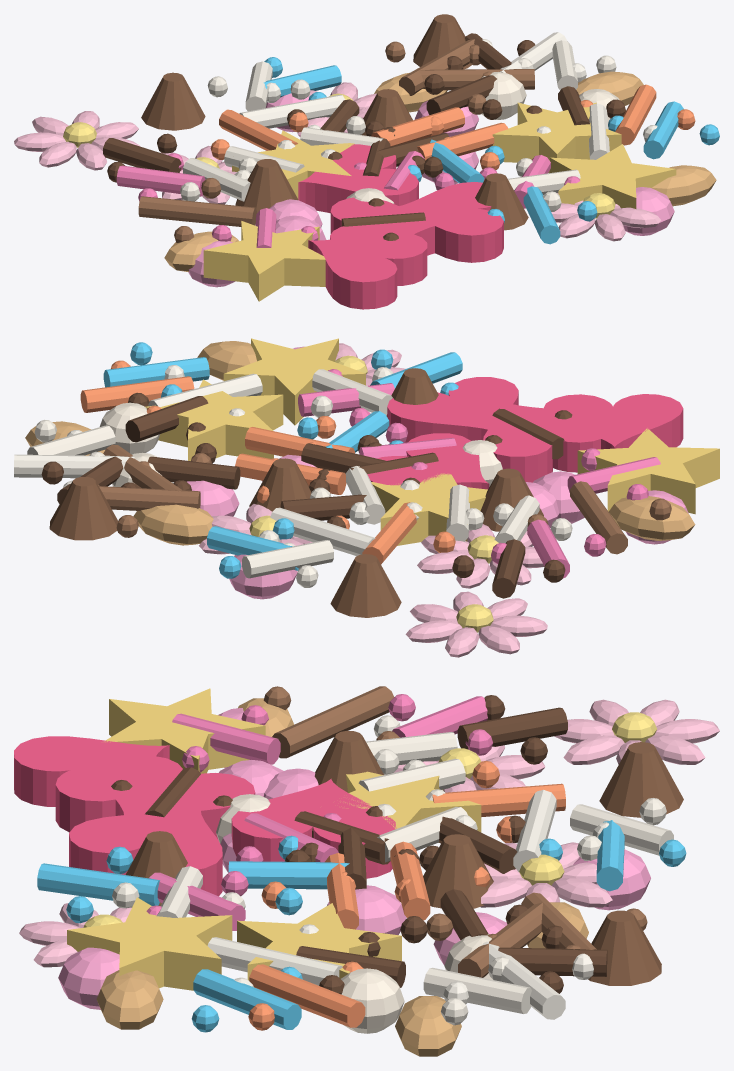
The model's file is toppings_heart_3_tier.glb.
3 views of the same model, one above another, from view 1: azimuth 30°, elevation 25°; view 2: azimuth 150°, elevation 25°; view 3: azimuth 270°, elevation 25° (orthographic). The views are drawn at different scales.
Visible parts, largest first — view 1: ToppingHeart_heart_3_02, ToppingStar_heart_3_03, ToppingHeart_heart_3_00, ToppingStar_heart_3_02, ToppingStar_heart_3_00, ToppingHeart_heart_3_03, ToppingHeart_heart_3_01, ToppingChocolateChip_heart_3_04, ToppingSprinkle_heart_3_09_Body, ToppingStar_heart_3_01, ToppingChocolateChip_heart_3_02, ToppingNut_heart_3_00 (+52 smaller); view 2: ToppingStar_heart_3_03, ToppingHeart_heart_3_01, ToppingHeart_heart_3_00, ToppingStar_heart_3_02, ToppingHeart_heart_3_02, ToppingStar_heart_3_00, ToppingStar_heart_3_01, ToppingHeart_heart_3_03, ToppingChocolateChip_heart_3_00, ToppingChocolateChip_heart_3_04, ToppingNut_heart_3_02, ToppingNut_heart_3_01 (+53 smaller); view 3: ToppingHeart_heart_3_02, ToppingStar_heart_3_00, ToppingHeart_heart_3_00, ToppingHeart_heart_3_03, ToppingStar_heart_3_03, ToppingHeart_heart_3_01, ToppingStar_heart_3_02, ToppingChocolateChip_heart_3_04, ToppingChocolateChip_heart_3_00, ToppingSprinkle_heart_3_09_Body, ToppingStar_heart_3_01, ToppingSprinkle_heart_3_07_Body (+60 smaller).
Part boxes in pixels (bbox=[...]): ToppingHeart_heart_3_02: bbox=[308, 232, 427, 309]; ToppingStar_heart_3_03: bbox=[203, 221, 325, 301]; ToppingHeart_heart_3_00: bbox=[390, 182, 503, 262]; ToppingStar_heart_3_02: bbox=[492, 102, 621, 173]; ToppingStar_heart_3_00: bbox=[550, 144, 676, 208]; ToppingHeart_heart_3_03: bbox=[298, 144, 418, 213]; ToppingHeart_heart_3_01: bbox=[330, 197, 434, 255]; ToppingChocolateChip_heart_3_04: bbox=[141, 72, 205, 130]; ToppingSprinkle_heart_3_09_Body: bbox=[138, 196, 256, 226]; ToppingStar_heart_3_01: bbox=[232, 130, 354, 198]; ToppingChocolateChip_heart_3_02: bbox=[235, 159, 298, 212]; ToppingNut_heart_3_00: bbox=[651, 165, 716, 206]; ToppingStar_heart_3_03: bbox=[577, 428, 719, 514]; ToppingHeart_heart_3_01: bbox=[483, 402, 613, 482]; ToppingHeart_heart_3_00: bbox=[387, 377, 518, 442]; ToppingStar_heart_3_02: bbox=[145, 379, 283, 460]; ToppingHeart_heart_3_02: bbox=[543, 394, 683, 449]; ToppingStar_heart_3_00: bbox=[223, 338, 365, 425]; ToppingStar_heart_3_01: bbox=[371, 473, 487, 545]; ToppingHeart_heart_3_03: bbox=[367, 433, 489, 489]; ToppingChocolateChip_heart_3_00: bbox=[49, 477, 118, 540]; ToppingChocolateChip_heart_3_04: bbox=[330, 554, 401, 617]; ToppingNut_heart_3_02: bbox=[133, 504, 213, 545]; ToppingNut_heart_3_01: bbox=[609, 496, 695, 540]; ToppingHeart_heart_3_02: bbox=[14, 736, 169, 832]; ToppingStar_heart_3_00: bbox=[67, 897, 232, 990]; ToppingHeart_heart_3_00: bbox=[69, 806, 222, 896]; ToppingHeart_heart_3_03: bbox=[231, 778, 396, 878]; ToppingStar_heart_3_03: bbox=[104, 688, 265, 773]; ToppingHeart_heart_3_01: bbox=[101, 755, 255, 839]; ToppingStar_heart_3_02: bbox=[237, 903, 401, 980]; ToppingChocolateChip_heart_3_04: bbox=[599, 742, 683, 817]; ToppingChocolateChip_heart_3_00: bbox=[588, 910, 661, 985]; ToppingSprinkle_heart_3_09_Body: bbox=[272, 686, 393, 758]; ToppingStar_heart_3_01: bbox=[340, 771, 481, 842]; ToppingSprinkle_heart_3_07_Body: bbox=[249, 964, 365, 1027].
Size of the model in its own units: 0.8219 by 0.0993 by 0.715.
